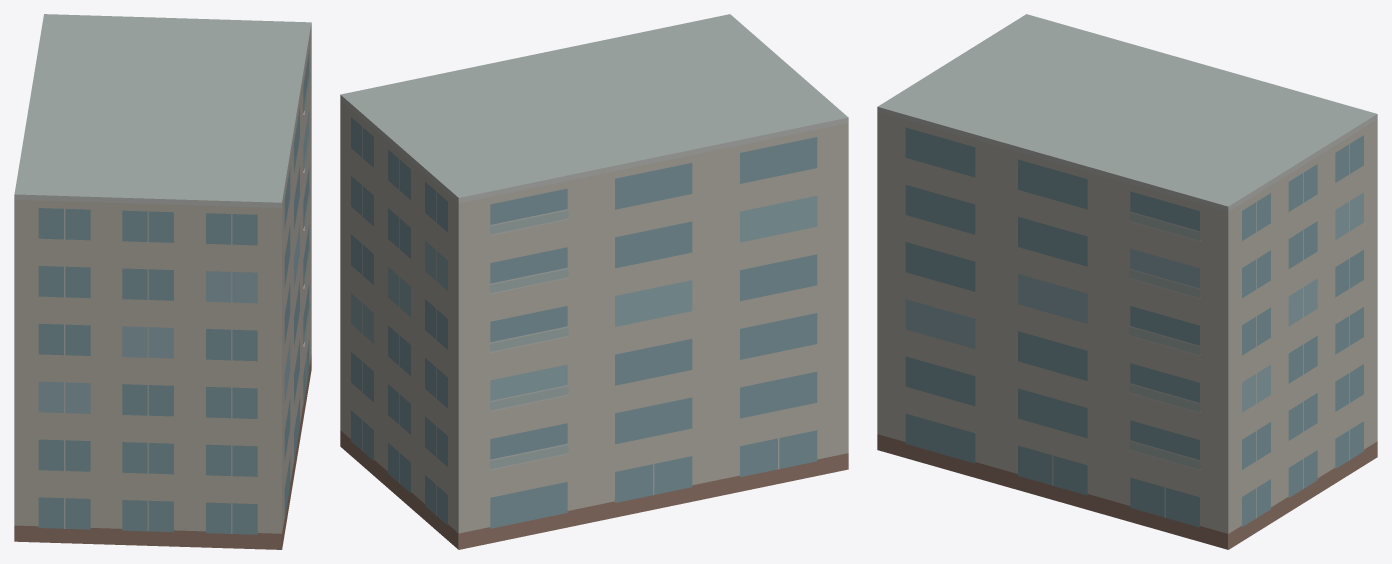
Rendered from survey-upis-32911230.glb.
3 renders of one model, left to right at view 1: azimuth 30°, elevation 25°; view 2: azimuth 150°, elevation 25°; view 3: azimuth 270°, elevation 25°, orthographic. The views are drawn at different scales.
Visible parts, largest first — view 1: survey-upis-32911230.tmp; view 2: survey-upis-32911230.tmp; view 3: survey-upis-32911230.tmp.
Boxes of the visible parts, box(x1,y1,x2,y2) form: survey-upis-32911230.tmp: box(14, 14, 311, 549); survey-upis-32911230.tmp: box(340, 14, 848, 549); survey-upis-32911230.tmp: box(877, 14, 1377, 549).
Size of the model in its own units: 19.32 by 16.05 by 21.2.
